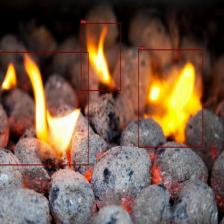fire: (0, 52, 89, 165), (138, 49, 203, 148), (80, 22, 120, 90)
